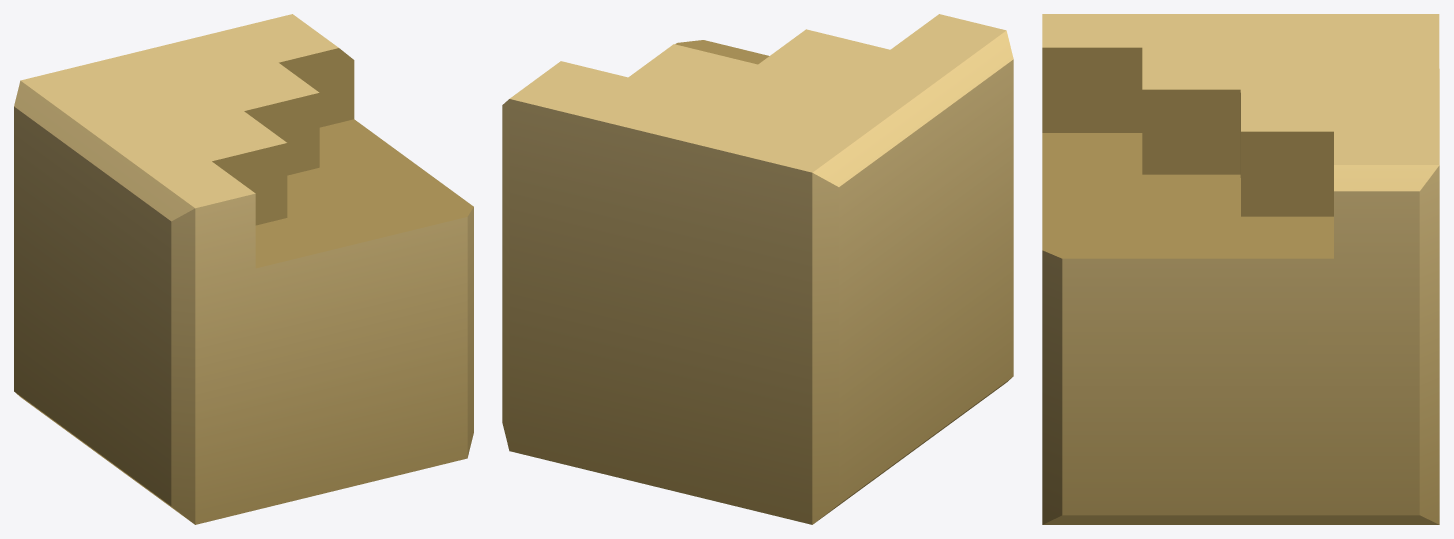
Rendered from Tile_TanggaPutih.fbx.
The picture shows the model from 3 angles, left to right: view 1: azimuth 30°, elevation 25°; view 2: azimuth 150°, elevation 25°; view 3: azimuth 270°, elevation 25°; orthographic projection. The views are drawn at different scales.
Visible parts, largest first — view 1: Cube.016; view 2: Cube.016; view 3: Cube.016.
Part boxes in pixels (box(x1,y1,x2,y2)): Cube.016: box(14, 14, 473, 524); Cube.016: box(502, 14, 1013, 524); Cube.016: box(1042, 14, 1439, 524).
Size of the model in its own units: 1 by 1 by 1.
Materials: 1 (1 with a texture image).
